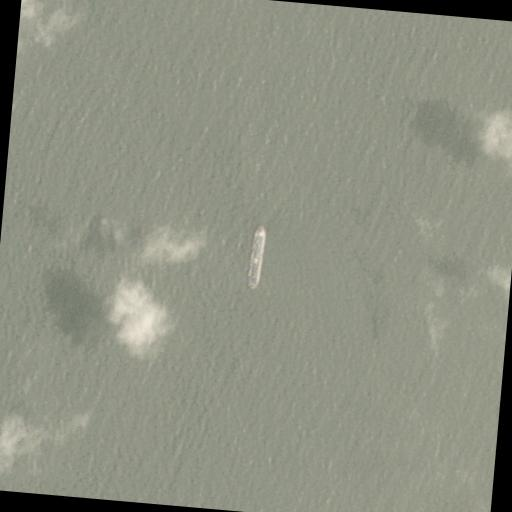ship: (91, 236, 213, 250), (246, 222, 266, 290), (472, 128, 512, 151), (130, 292, 152, 330)
